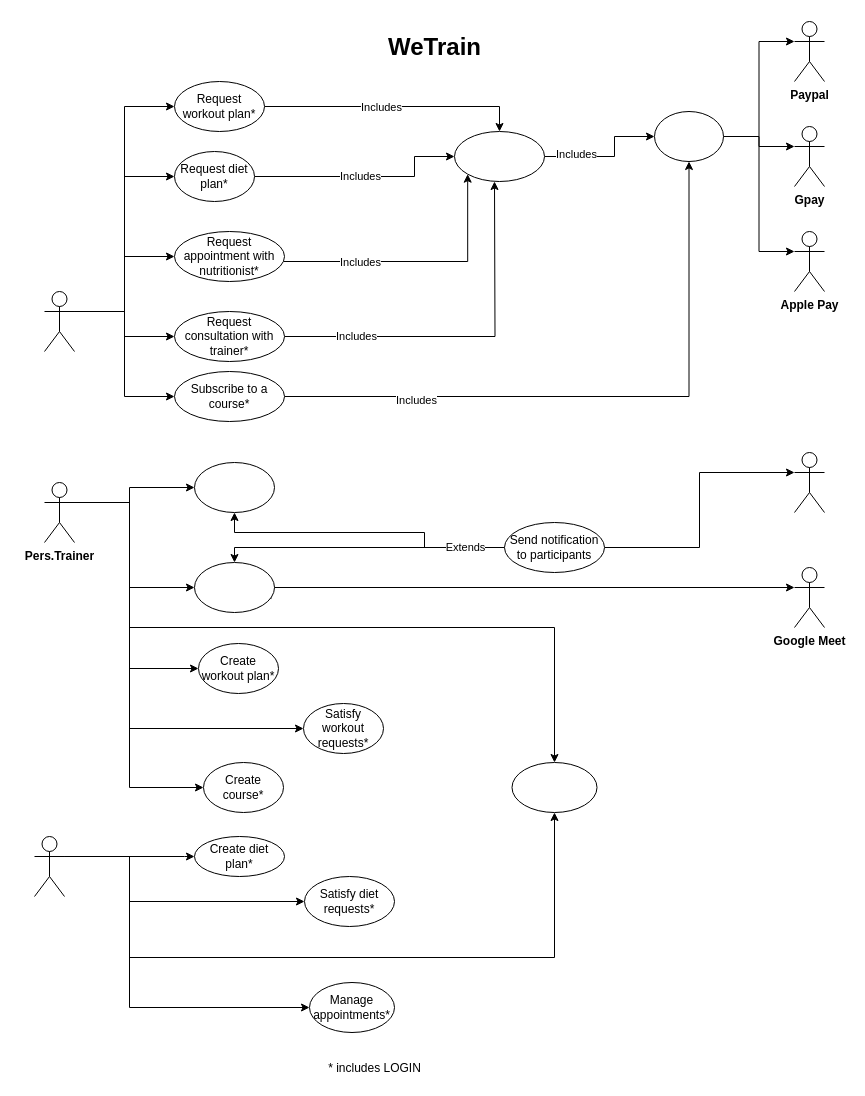
This 865x1096 diagram has some shape labels left out. The shapes that lost their labels are listed below. From the top down, each one's box as (x1, y1, x2, y2) in pixels, then its label:
(454, 130, 544, 182): Buy monthly subscription
(654, 110, 724, 162): Pay
(44, 290, 74, 352): Athlete
(194, 462, 274, 512): Modify scheduled lessons*
(794, 452, 824, 512): Email System
(194, 562, 274, 612): Start lesson*
(511, 762, 597, 812): Send email to collaborator*
(34, 836, 64, 896): Nutritionist
